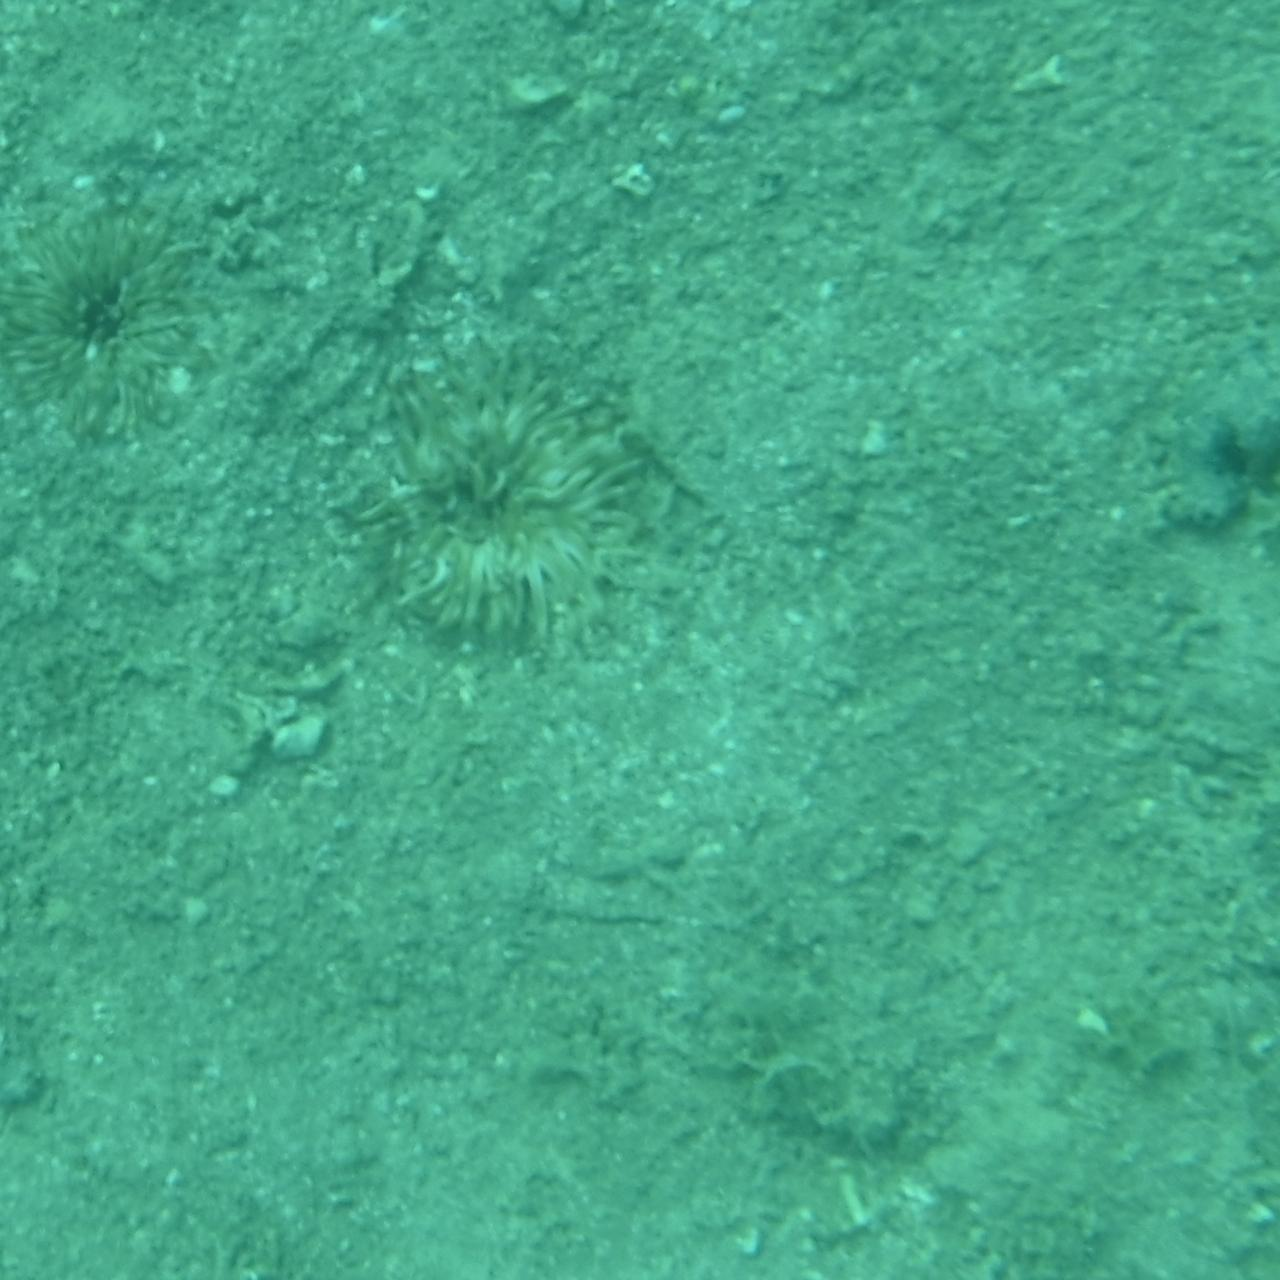Condylactis aurantiaca: (326, 320, 699, 659), (0, 191, 226, 442)
Holothuria tubulosa: (1035, 291, 1280, 599), (0, 805, 165, 1123)
